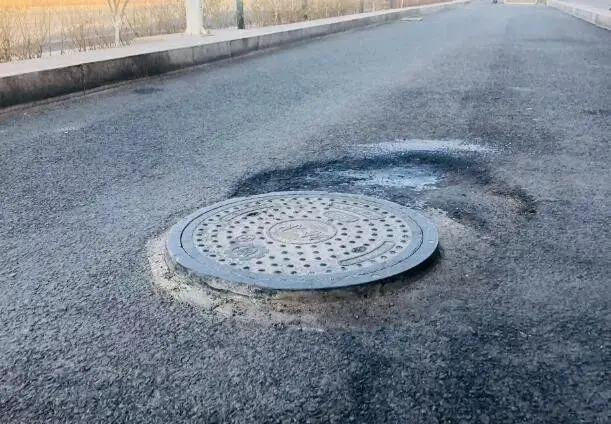wellcover: (151, 189, 452, 296)
